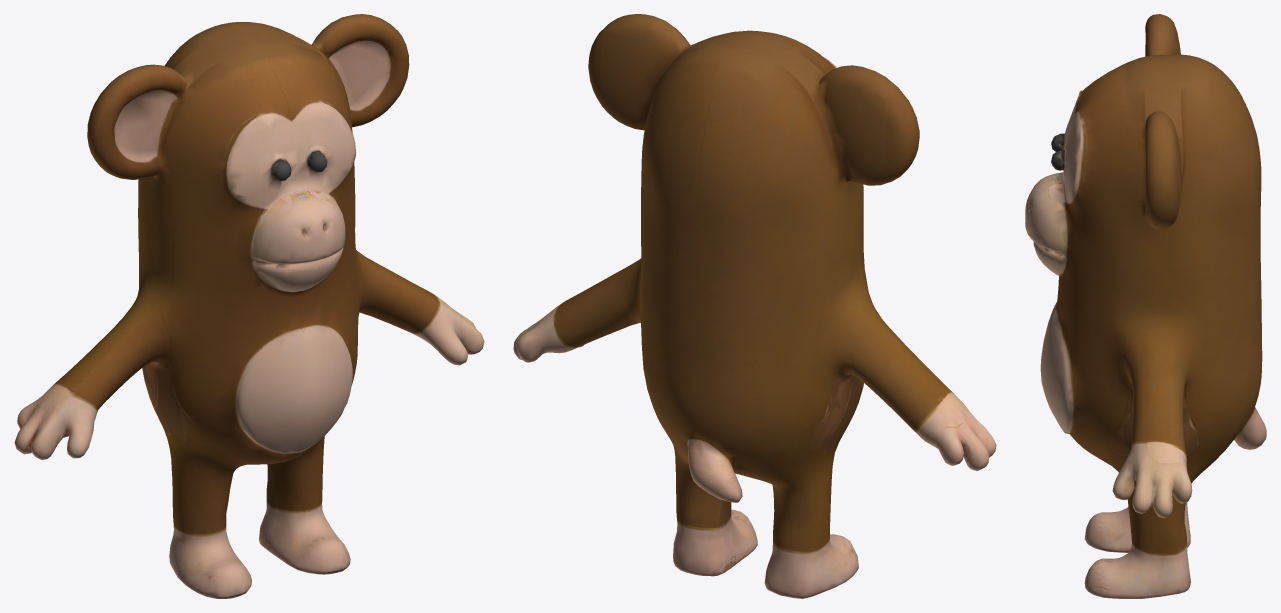
Rendered from MONKEY.fbx.
3 renders of one model, left to right at view 1: azimuth 30°, elevation 25°; view 2: azimuth 150°, elevation 25°; view 3: azimuth 270°, elevation 25°, orthographic. The views are drawn at different scales.
Parts seen in each view (by area): view 1: Mesh_0.513; view 2: Mesh_0.513; view 3: Mesh_0.513.
Part boxes in pixels (x1,y1,x2,y2): Mesh_0.513: (14, 14, 484, 598); Mesh_0.513: (513, 14, 996, 598); Mesh_0.513: (1025, 14, 1266, 598).
Size of the model in its own units: 184 by 200 by 87.28.
1 material, 1 textured.
